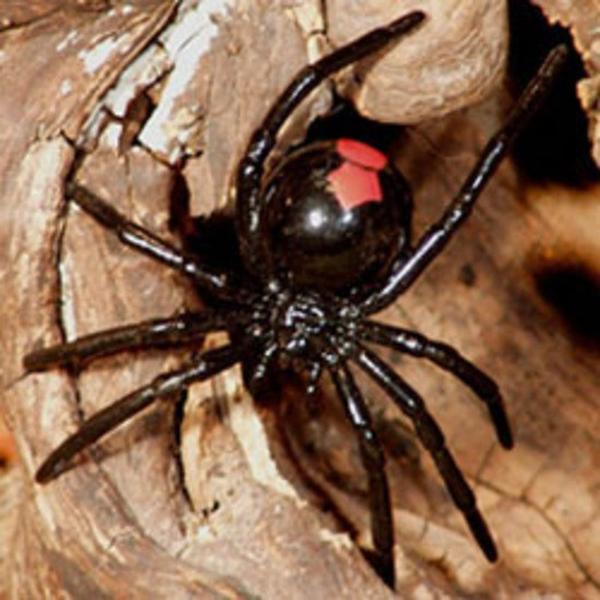Redback Spider: (57, 15, 529, 556)
